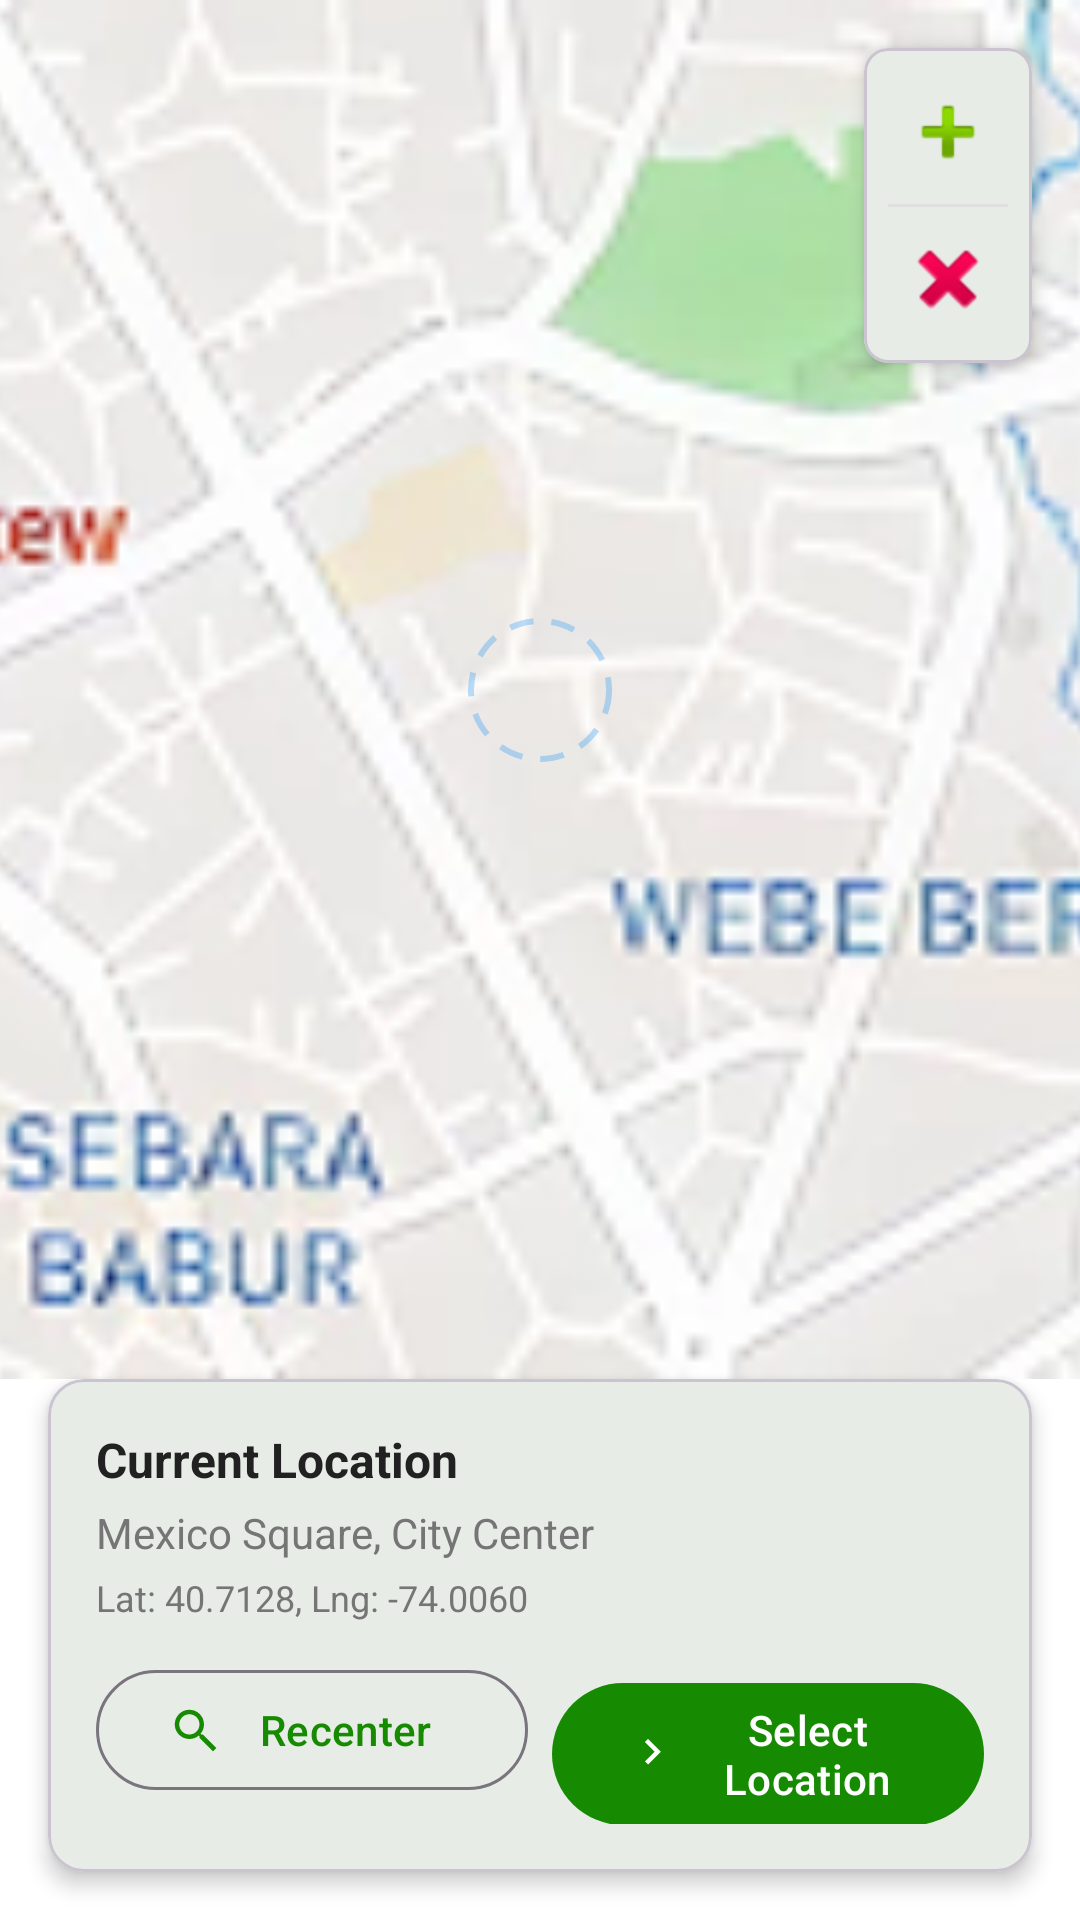

Icon click points for this 1080×1920 phone screenshot, format (x=x, y=y):
Zoom In: (x=948, y=132)
